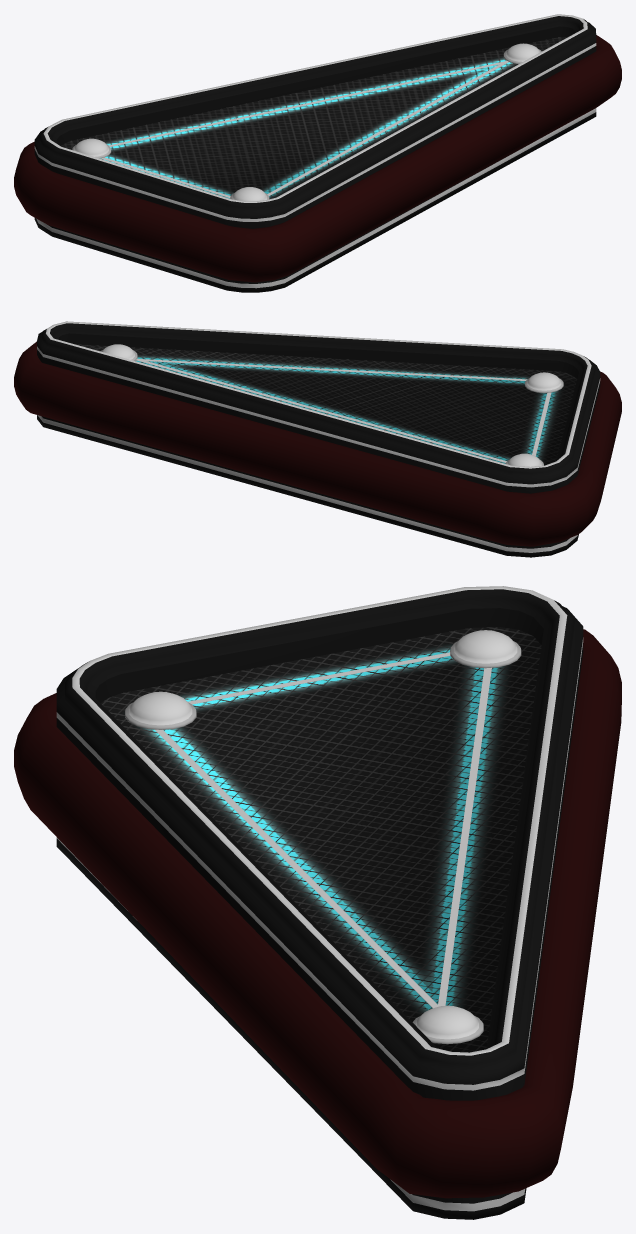
Rendered from BumperTriangulaire.obj.
The picture shows the model from 3 angles, top to bottom: view 1: azimuth 30°, elevation 25°; view 2: azimuth 150°, elevation 25°; view 3: azimuth 270°, elevation 25°; orthographic projection. The views are drawn at different scales.
Visible parts, largest first — view 1: Box001, Cylinder004, Cube, Cylinder002; view 2: Box001, Cylinder004, Cube, Cylinder002; view 3: Box001, Cylinder004, Cube, Cylinder002.
Boxes of the visible parts, x1,y1,x2,y2 form: Box001: [34, 14, 596, 292]; Cylinder004: [14, 35, 621, 282]; Cube: [101, 60, 509, 197]; Cylinder002: [72, 43, 541, 201]; Box001: [37, 321, 600, 557]; Cylinder004: [14, 341, 621, 546]; Cube: [135, 358, 551, 462]; Cylinder002: [100, 344, 563, 466]; Box001: [56, 586, 583, 1219]; Cylinder004: [14, 629, 621, 1198]; Cube: [155, 652, 491, 1008]; Cylinder002: [125, 630, 521, 1044].
Size of the model in its own units: 20.52 by 2.91 by 10.21.
